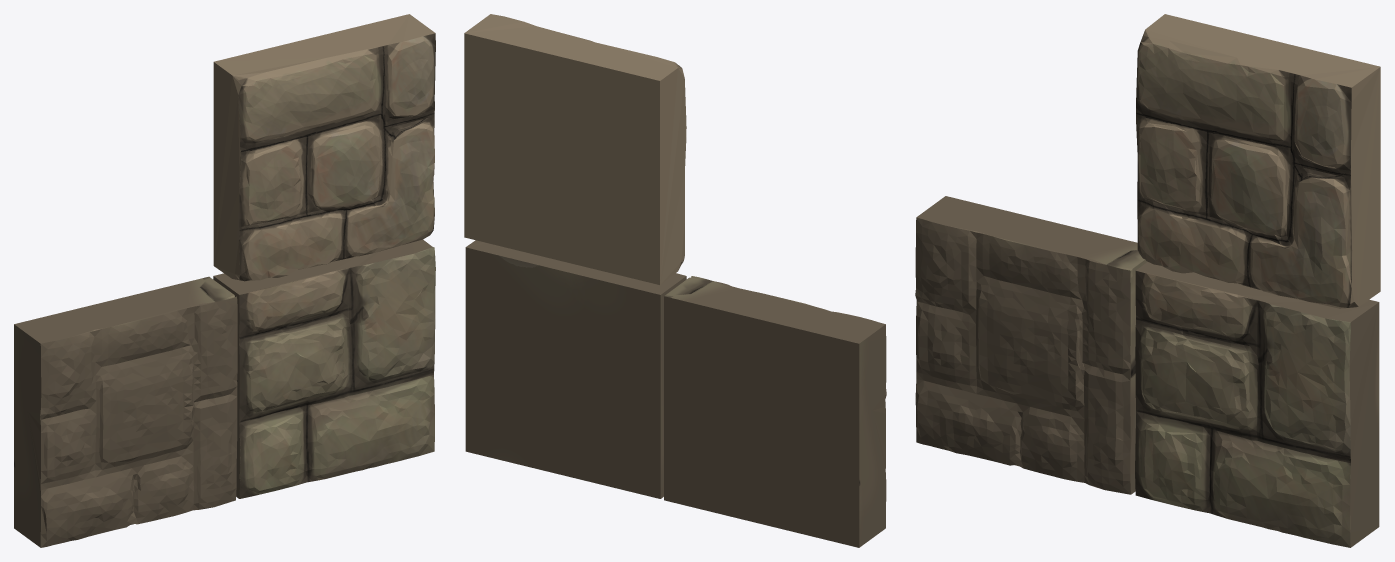
File: Walls_FBX.fbx
3 views of the same model, side by side, from view 1: azimuth 30°, elevation 25°; view 2: azimuth 150°, elevation 25°; view 3: azimuth 330°, elevation 25° (orthographic). The views are drawn at different scales.
Visible parts, largest first — view 1: Cube, Cube.001, Cube.002; view 2: Cube, Cube.001, Cube.002; view 3: Cube.001, Cube.002, Cube.
Boxes of the visible parts, left/top/right/bottom form: Cube: left=14, top=276, right=237, bottom=547; Cube.001: left=213, top=14, right=435, bottom=281; Cube.002: left=213, top=239, right=435, bottom=498; Cube: left=664, top=276, right=886, bottom=547; Cube.001: left=464, top=14, right=686, bottom=284; Cube.002: left=465, top=240, right=686, bottom=498; Cube.001: left=1136, top=14, right=1380, bottom=308; Cube.002: left=1135, top=262, right=1379, bottom=547; Cube: left=915, top=196, right=1147, bottom=494.
Size of the model in its own units: 406 by 411 by 57.07.
3 materials, 3 textured.
